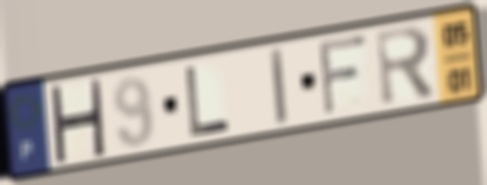9: (110, 74, 157, 151)
F: (316, 31, 371, 120)
H: (47, 77, 108, 164)
I: (268, 44, 291, 128)
L: (182, 62, 233, 138)
R: (373, 22, 439, 111)
